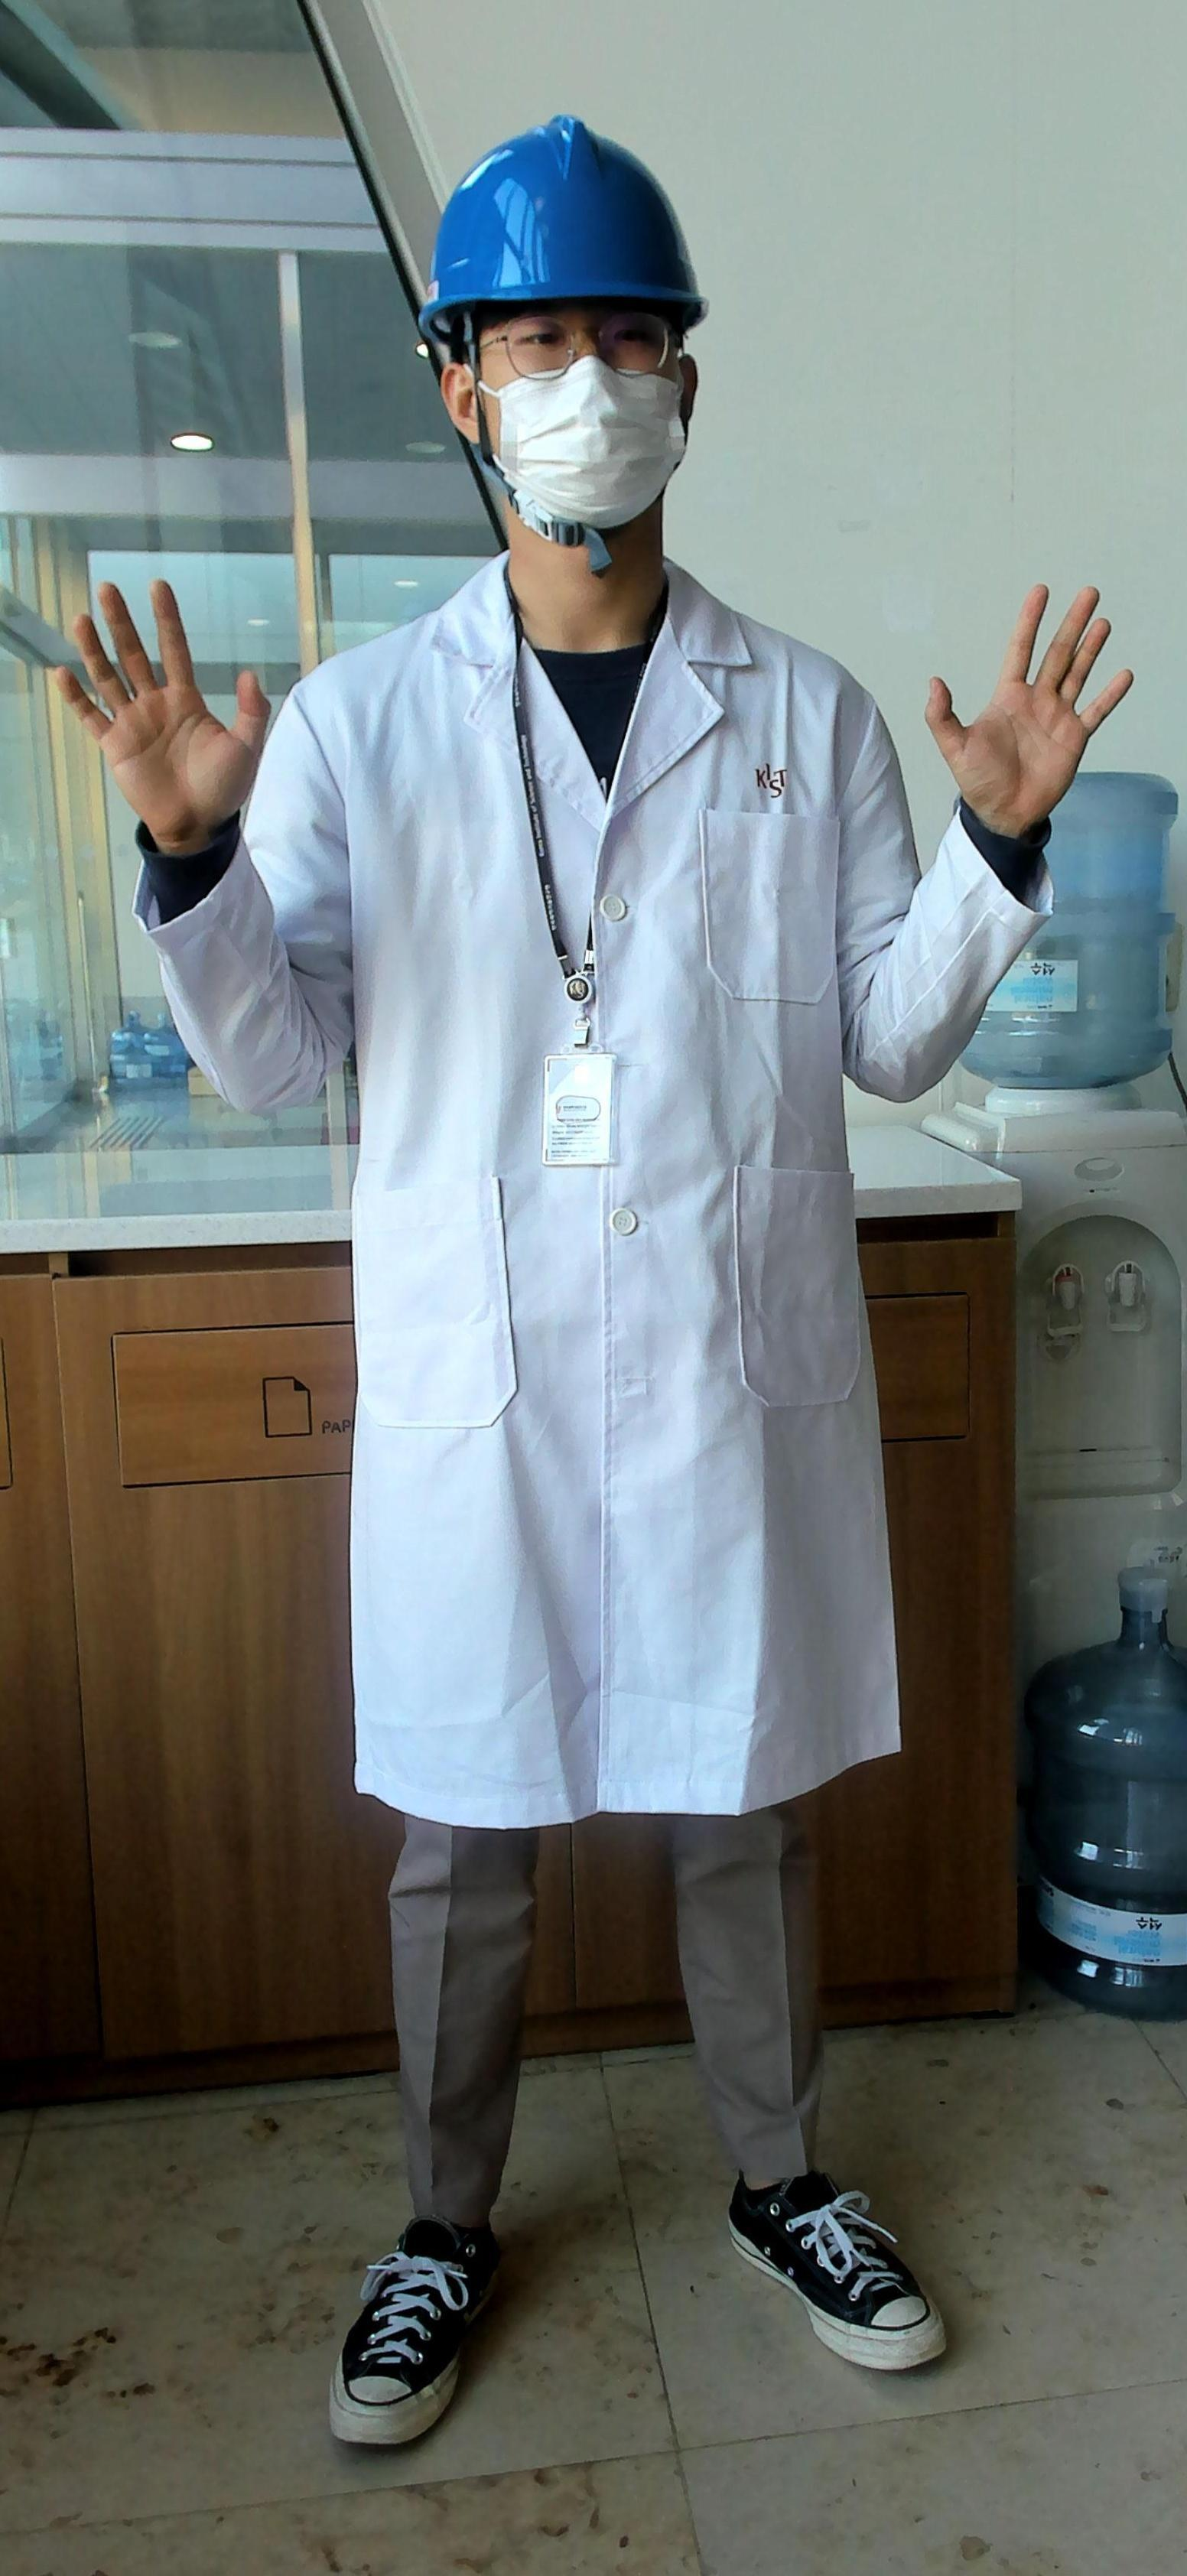lab_coat: (292, 664, 949, 1796)
